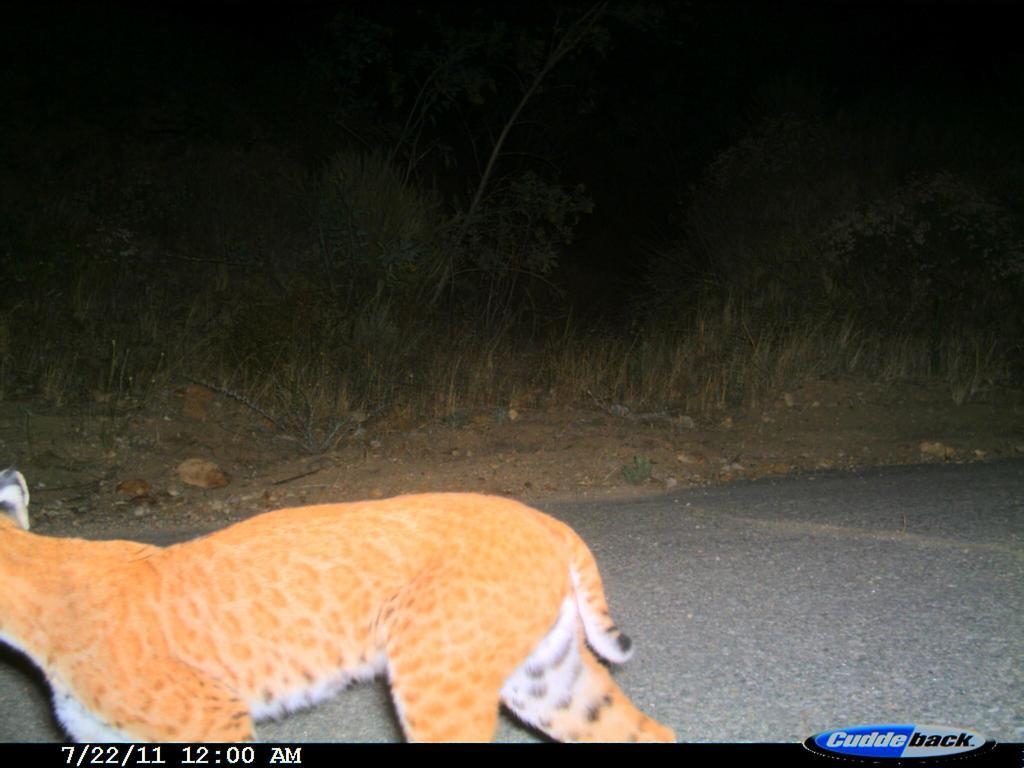bobcat: (1, 454, 699, 746)
